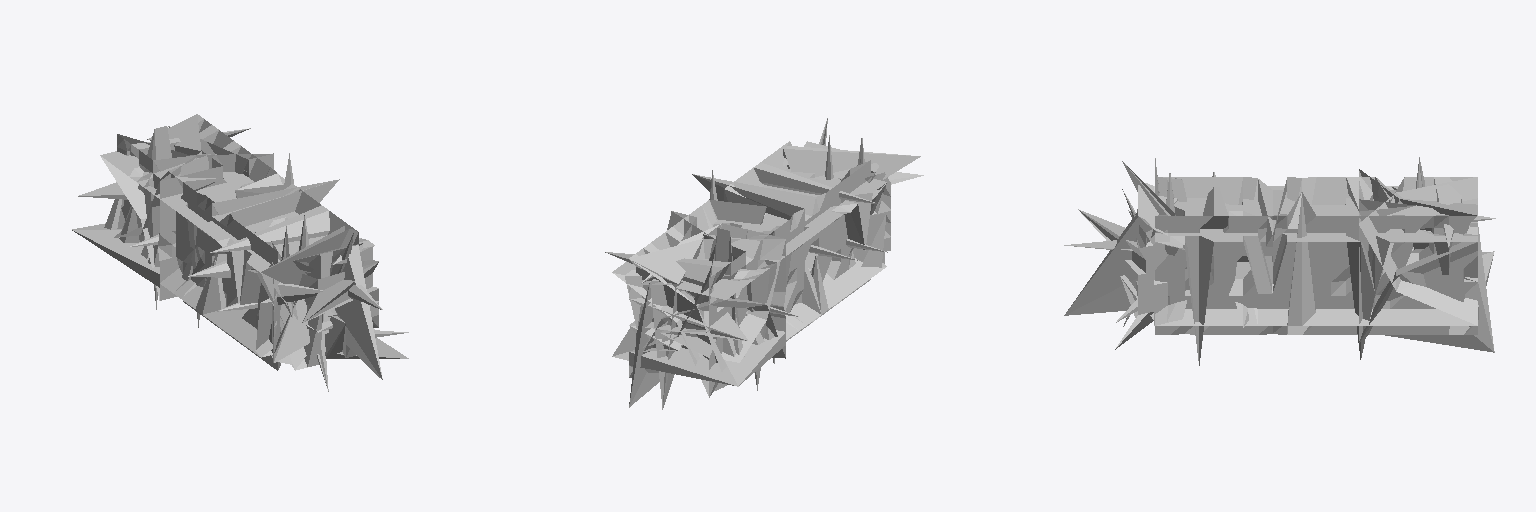
The model's file is immeuble_destroy.obj.
3 renders of one model, left to right at view 1: azimuth 30°, elevation 25°; view 2: azimuth 150°, elevation 25°; view 3: azimuth 270°, elevation 25°, orthographic.
Visible parts, largest first — view 1: Plane; view 2: Plane; view 3: Plane.
Part boxes in pixels (left/top/right/bottom): Plane: left=72, top=114, right=408, bottom=391; Plane: left=605, top=118, right=923, bottom=409; Plane: left=1064, top=157, right=1495, bottom=365.
Bounding box in the file's own units: 27.52 × 27.52 × 64.71.